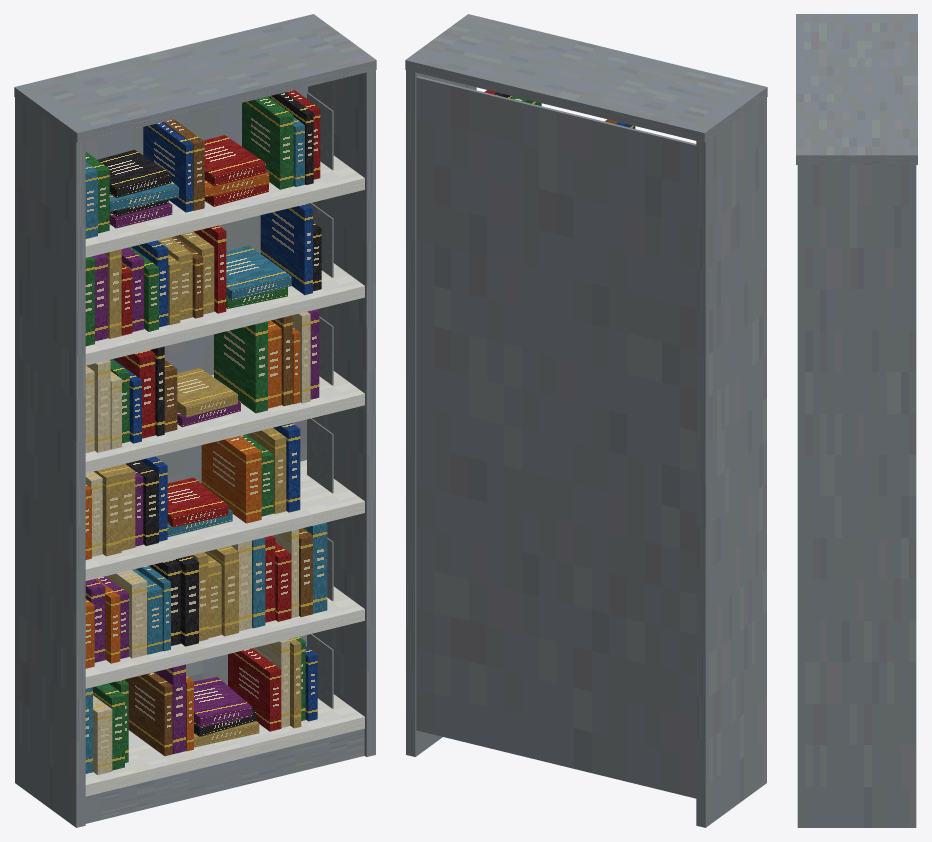
The model's file is PSX_ShelvesPropsNormalItemsLibraryBay.glb.
3 views of the same model, side by side, from view 1: azimuth 30°, elevation 25°; view 2: azimuth 150°, elevation 25°; view 3: azimuth 270°, elevation 25° (orthographic). The views are drawn at different scales.
Parts seen in each view (by area): view 1: LibraryBay; view 2: LibraryBay; view 3: LibraryBay.
Boxes of the visible parts, left/top/right/bottom form: LibraryBay: left=14, top=14, right=376, bottom=827; LibraryBay: left=405, top=14, right=767, bottom=827; LibraryBay: left=796, top=14, right=917, bottom=827.
Bounding box in the file's own units: 0.96 × 2.13 × 0.35.
Materials: 12 (12 with a texture image).
